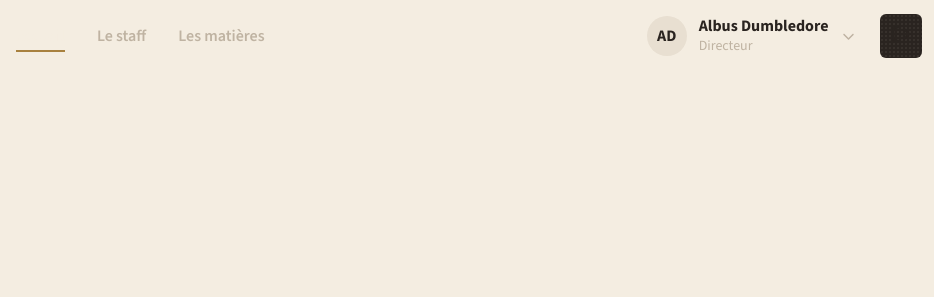
Navbar — utilisateur connecté › la touche Échap referme le menu
Click the button "AD Albus Dumbledore Directeur".
click(751, 36)  # box x1=639 y1=12 x2=864 y2=60
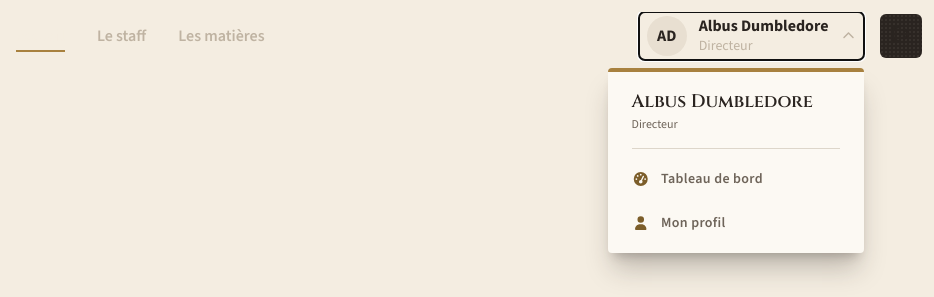
Press Escape
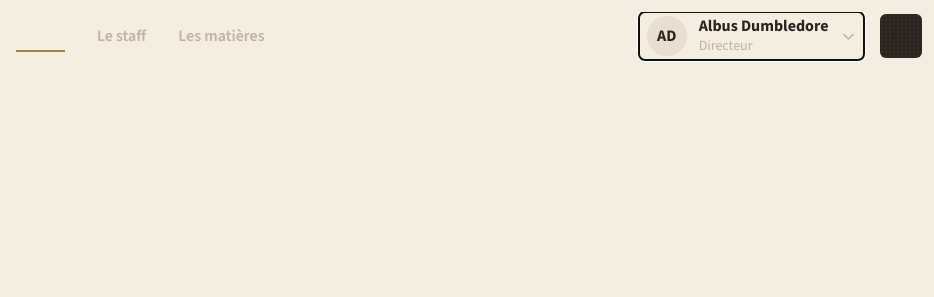
Expected: the link "Mon profil" is gone
